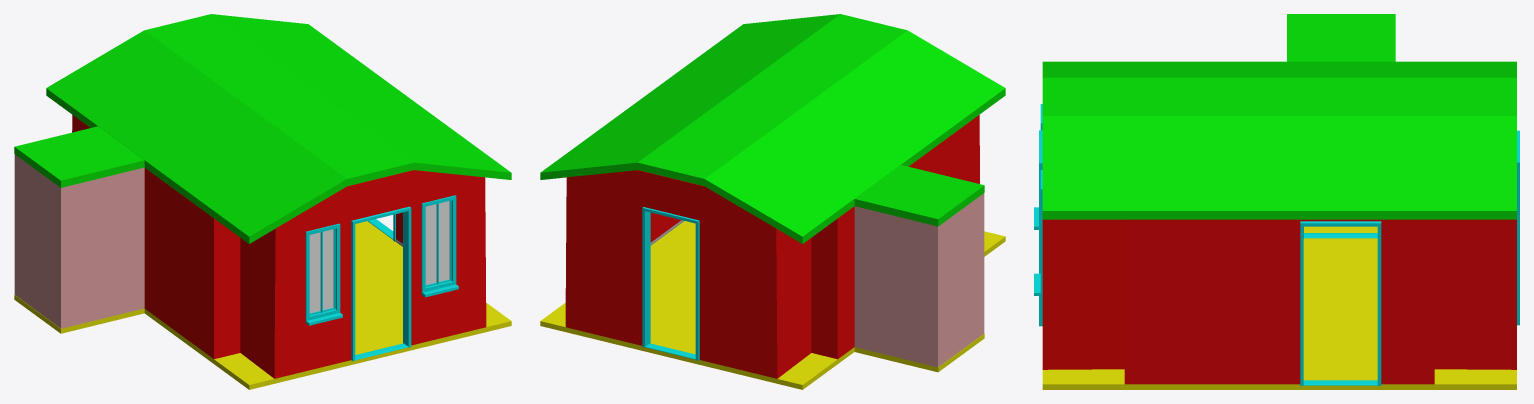
Rendered from FloorPlan509_physics.fbx.
The picture shows the model from 3 angles, left to right: view 1: azimuth 30°, elevation 25°; view 2: azimuth 150°, elevation 25°; view 3: azimuth 270°, elevation 25°; orthographic projection. The views are drawn at different scales.
Parts seen in each view (by area): view 1: FP509:Ceiling_1, FP509:Walls_1, FP509:Walls_2, FP509:Floor_1, FP509:Ceiling_2, FP509:DoorFrame_1, FP509:WindowFrame_2, FP509:WindowFrame_1, FP509:WindowPane_1, FP509:WindowPane_2, FP509:Floor_2; view 2: FP509:Ceiling_1, FP509:Walls_1, FP509:Walls_2, FP509:Floor_1, FP509:Ceiling_2, FP509:DoorFrame_3, FP509:Floor_2; view 3: FP509:Ceiling_1, FP509:Walls_1, FP509:Floor_1, FP509:Ceiling_2, FP509:DoorFrame_2, FP509:DoorFrame_3, FP509:Floor_2, FP509:WindowFrame_2, FP509:DoorFrame_1, FP509:Floorboard_2, FP509:Floorboard_5.
Part boxes in pixels (x1,y1,x2,y2): FP509:Ceiling_1: [46, 14, 511, 243]; FP509:Walls_1: [72, 115, 486, 378]; FP509:Walls_2: [14, 154, 144, 328]; FP509:Floor_1: [144, 221, 511, 389]; FP509:Ceiling_2: [14, 126, 144, 187]; FP509:DoorFrame_1: [351, 206, 411, 361]; FP509:WindowFrame_2: [421, 195, 458, 297]; FP509:WindowFrame_1: [305, 223, 342, 325]; FP509:WindowPane_1: [309, 229, 333, 313]; FP509:WindowPane_2: [425, 201, 449, 284]; FP509:Floor_2: [14, 295, 144, 333]; FP509:Ceiling_1: [540, 14, 1005, 243]; FP509:Walls_1: [565, 115, 979, 378]; FP509:Walls_2: [854, 193, 984, 367]; FP509:Floor_1: [540, 221, 1005, 389]; FP509:Ceiling_2: [854, 165, 984, 226]; FP509:DoorFrame_3: [642, 207, 699, 360]; FP509:Floor_2: [854, 333, 984, 372]; FP509:Ceiling_1: [1042, 61, 1516, 219]; FP509:Walls_1: [1042, 219, 1516, 384]; FP509:Floor_1: [1042, 238, 1516, 389]; FP509:Ceiling_2: [1287, 14, 1395, 61]; FP509:DoorFrame_2: [1300, 221, 1381, 385]; FP509:DoorFrame_3: [1517, 130, 1519, 325]; FP509:Floor_2: [1304, 226, 1377, 232]; FP509:WindowFrame_2: [1034, 170, 1042, 295]; FP509:DoorFrame_1: [1039, 130, 1042, 326]; FP509:Floorboard_2: [1303, 380, 1377, 385]; FP509:Floorboard_5: [1304, 233, 1377, 238].
Bounding box in the file's own units: 541 × 277 × 557.
